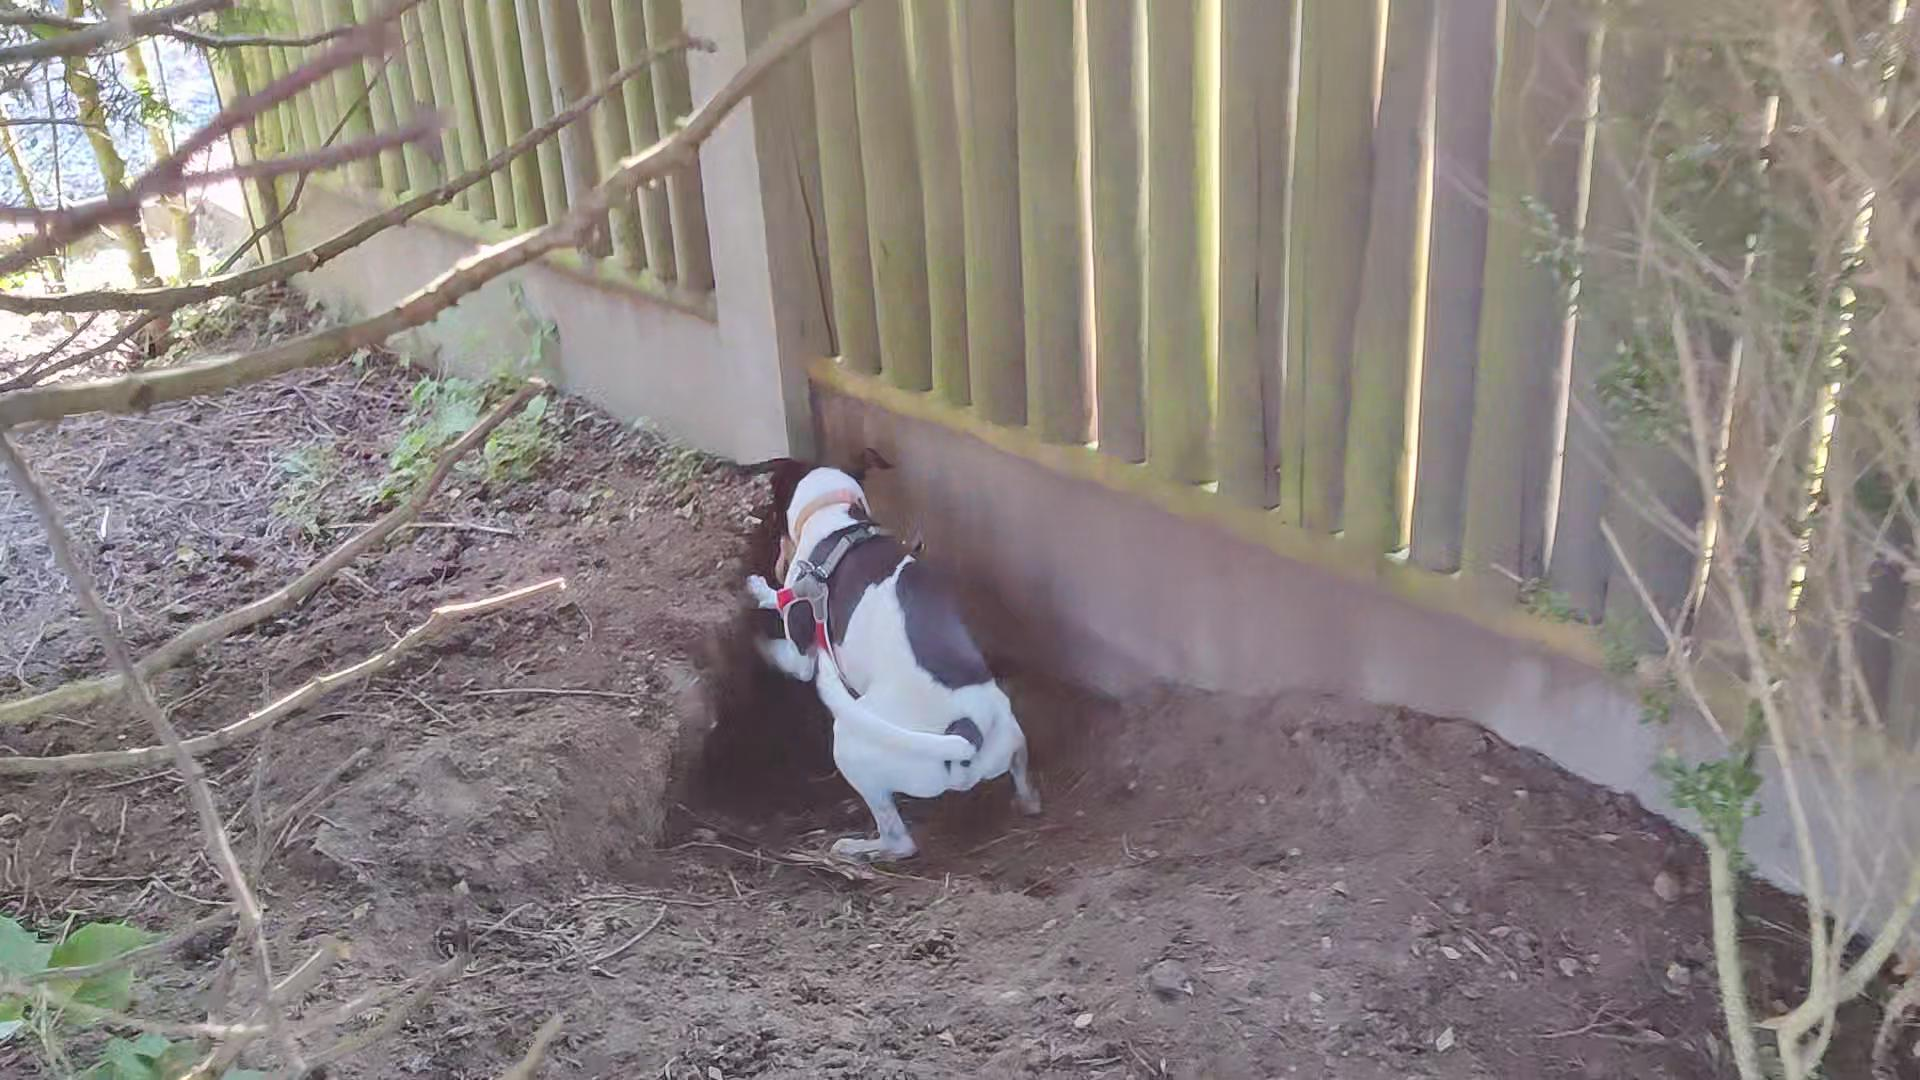Dog: (702, 411, 1054, 884)
